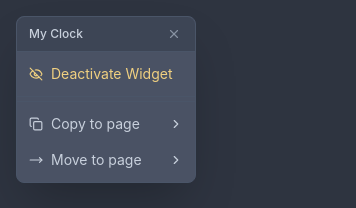
Test: WidgetContextMenu › excludes current page from target list
Hover over the text "Copy to page" at (106, 124), box x1=29 y1=115 x2=183 y2=132
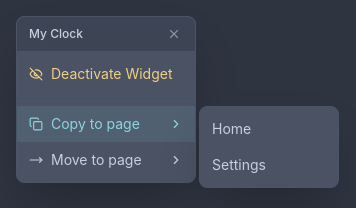
Check: the button "Home" is shown, box x1=200 y1=111 x2=338 y2=147
Check: the button "Settings" is shown, box x1=200 y1=147 x2=338 y2=183
